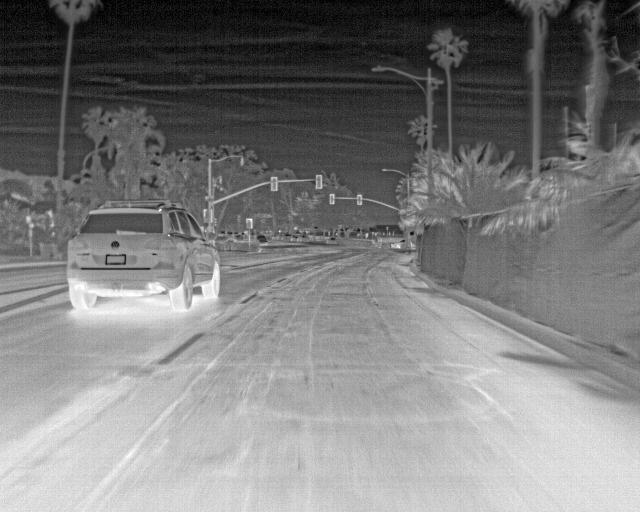car: (66, 201, 223, 313)
